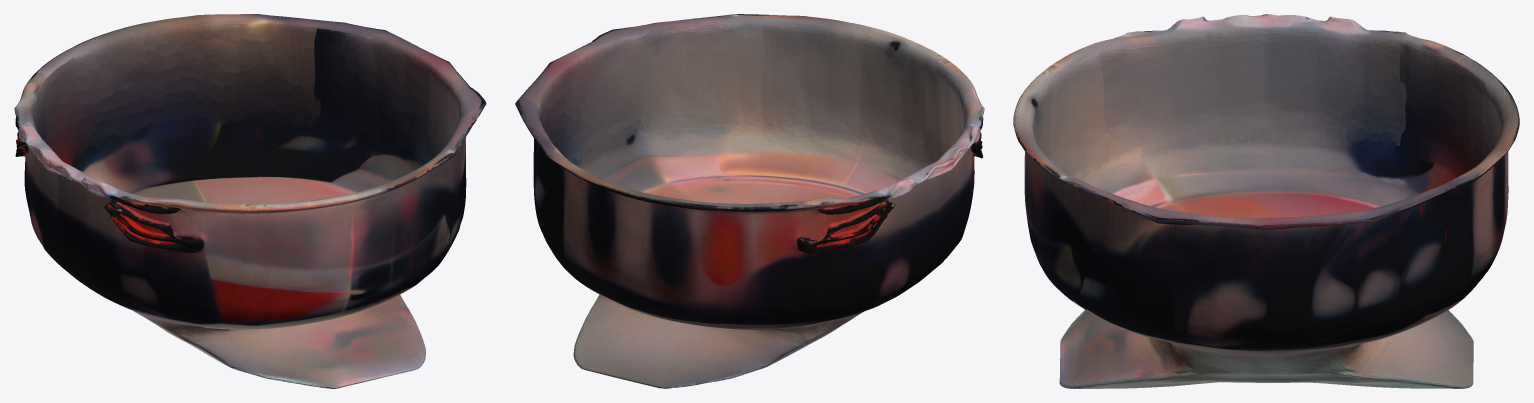
Rendered from image_0000_segmented.glb.
The picture shows the model from 3 angles, left to right: view 1: azimuth 30°, elevation 25°; view 2: azimuth 150°, elevation 25°; view 3: azimuth 270°, elevation 25°; orthographic projection. The views are drawn at different scales.
Parts seen in each view (by area): view 1: tmp4l5xzeh5.ply; view 2: tmp4l5xzeh5.ply; view 3: tmp4l5xzeh5.ply.
Part boxes in pixels (x1,y1,x2,y2): tmp4l5xzeh5.ply: (14, 14, 486, 388); tmp4l5xzeh5.ply: (515, 14, 984, 388); tmp4l5xzeh5.ply: (1013, 14, 1519, 388).
Bounding box in the file's own units: 2 × 0.9951 × 1.99.
Materials: 1 (1 with a texture image).
